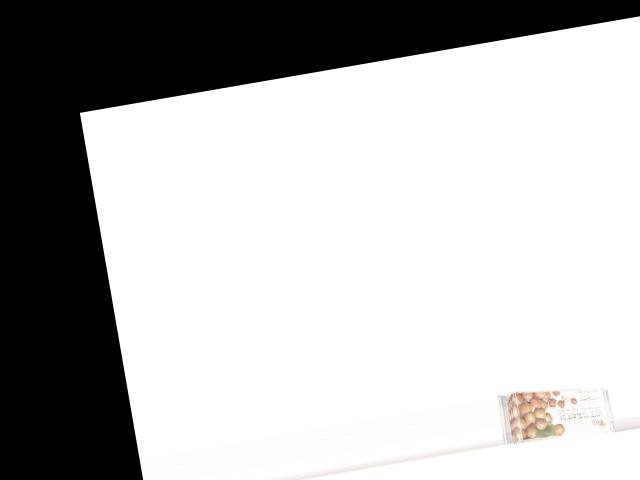chocolate: (497, 375, 615, 447)
